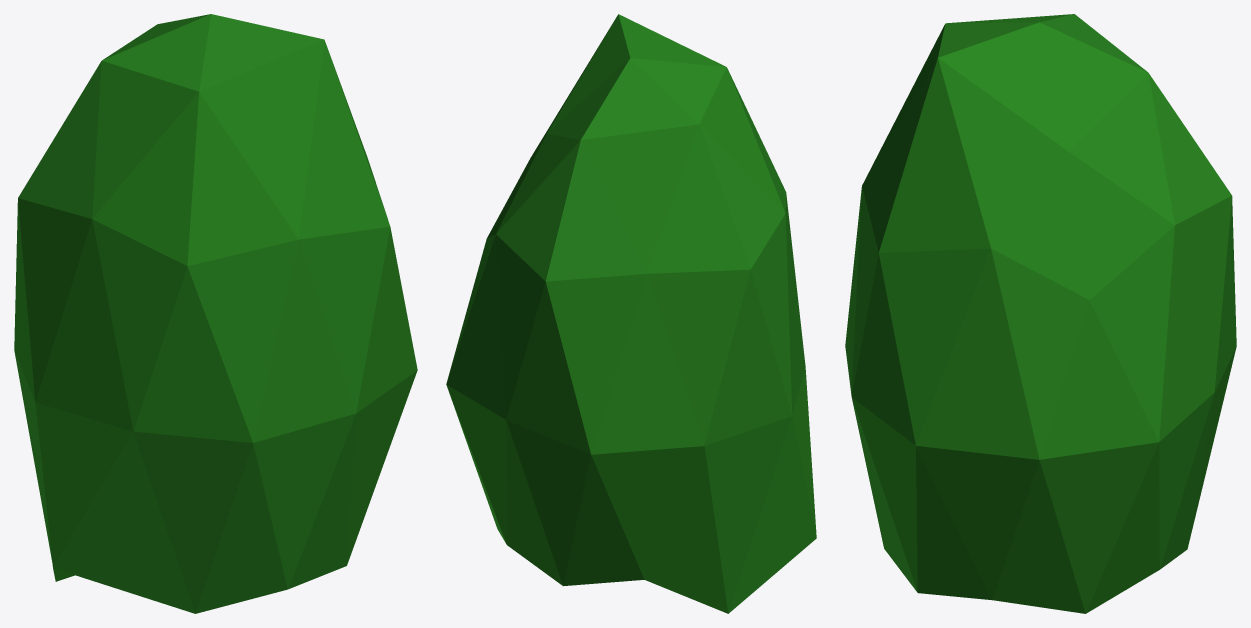
File: Bush_4_summer_mat.fbx
3 renders of one model, left to right at view 1: azimuth 30°, elevation 25°; view 2: azimuth 150°, elevation 25°; view 3: azimuth 270°, elevation 25°, orthographic. The views are drawn at different scales.
Visible parts, largest first — view 1: Bush_4_summer_mat; view 2: Bush_4_summer_mat; view 3: Bush_4_summer_mat.
Part boxes in pixels (left/top/right/bottom): Bush_4_summer_mat: left=14, top=14, right=417, bottom=613; Bush_4_summer_mat: left=446, top=14, right=816, bottom=613; Bush_4_summer_mat: left=845, top=14, right=1236, bottom=613.
Bounding box in the file's own units: 39.09 × 58.1 × 36.72.
